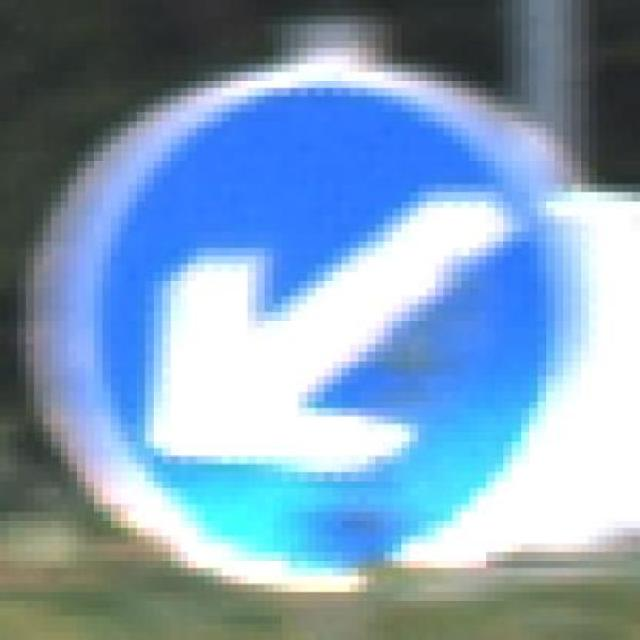Keep-Left: (34, 48, 606, 600)
